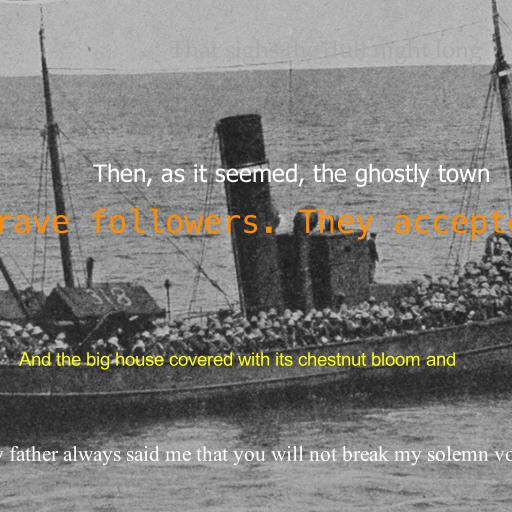Arial: (18, 352, 456, 370)
Menlo: (0, 208, 512, 240)
Palatino: (170, 38, 482, 65)
Tahoma: (92, 163, 490, 187)
Times New Roman: (0, 445, 512, 466)
